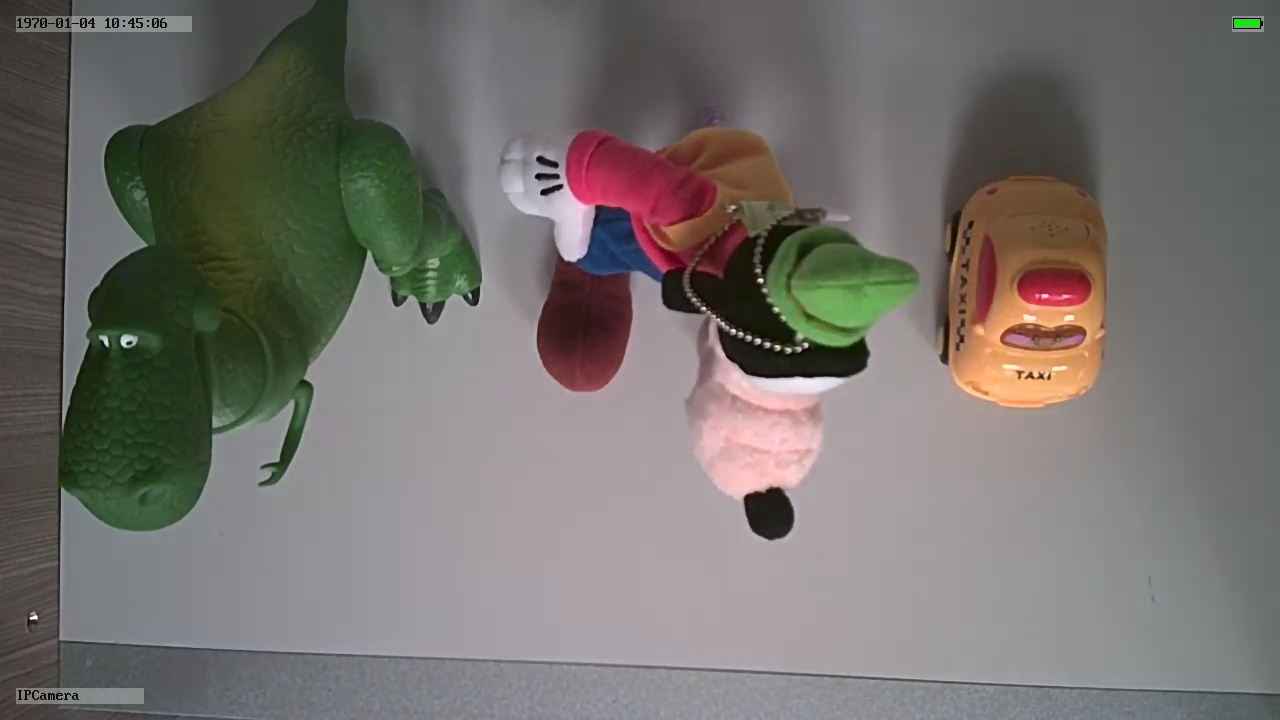car: (933, 173, 1116, 411)
goofy: (490, 119, 922, 542)
rex: (58, 51, 479, 534)
